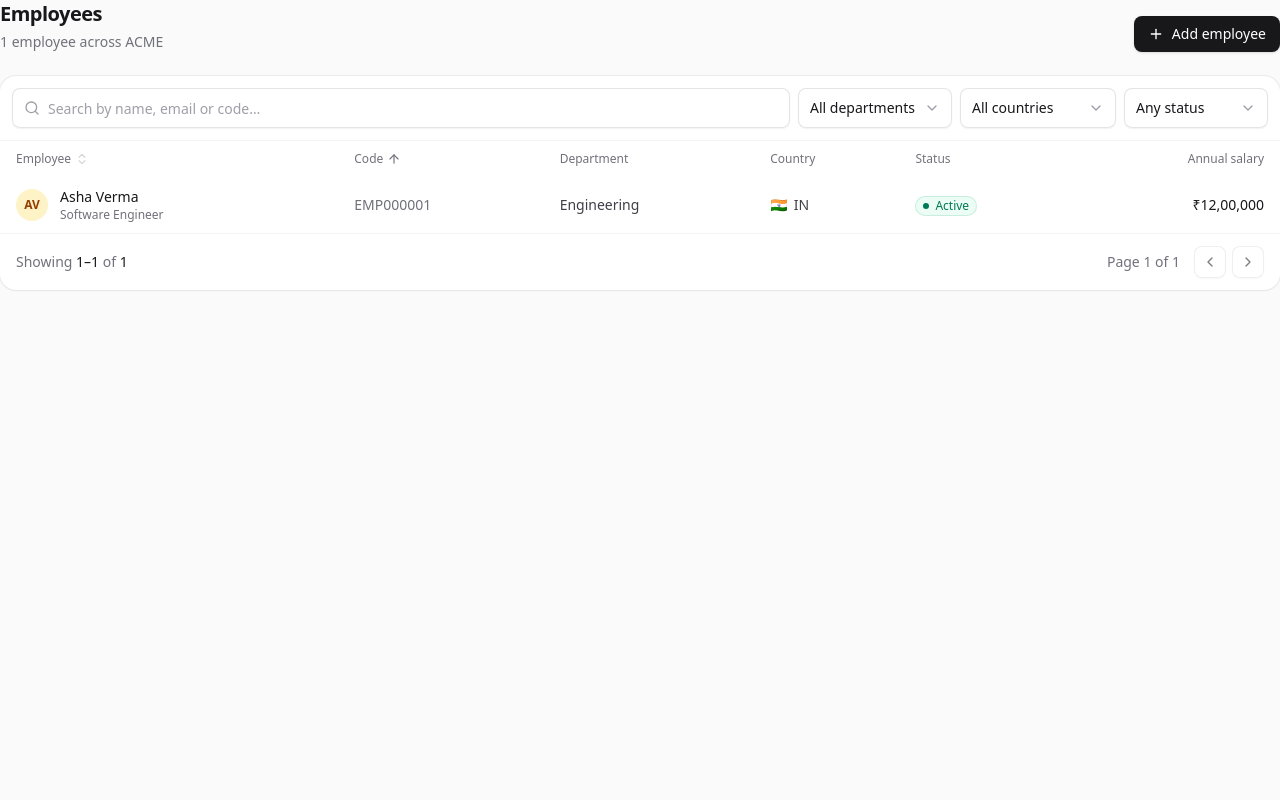
Scenario: EmployeesPage › adds an employee and shows field errors from the API
This screenshot has width=1280, height=800.
Click the button "Add employee" at (1207, 34), box [1134,16,1279,52]
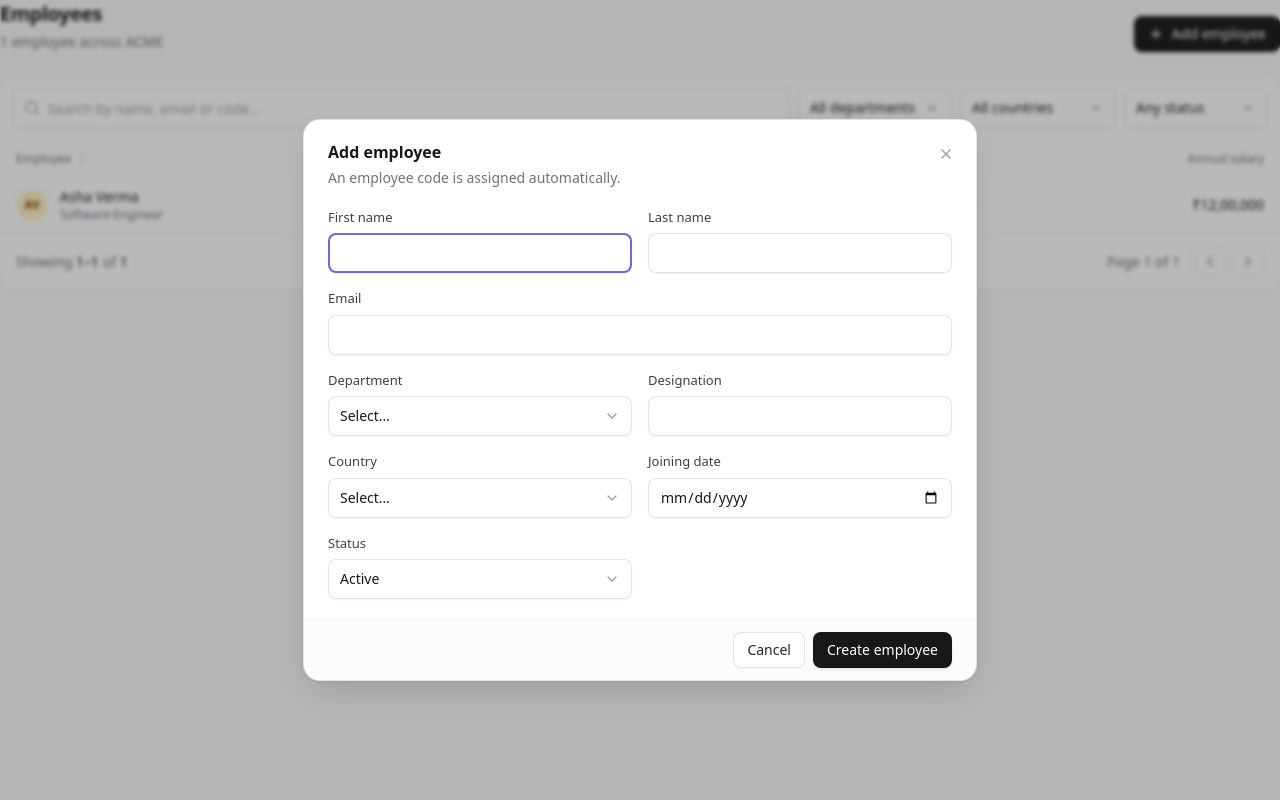
Type "Ravi" into the field labelled "First name" at (480, 253), box [328,233,632,273]
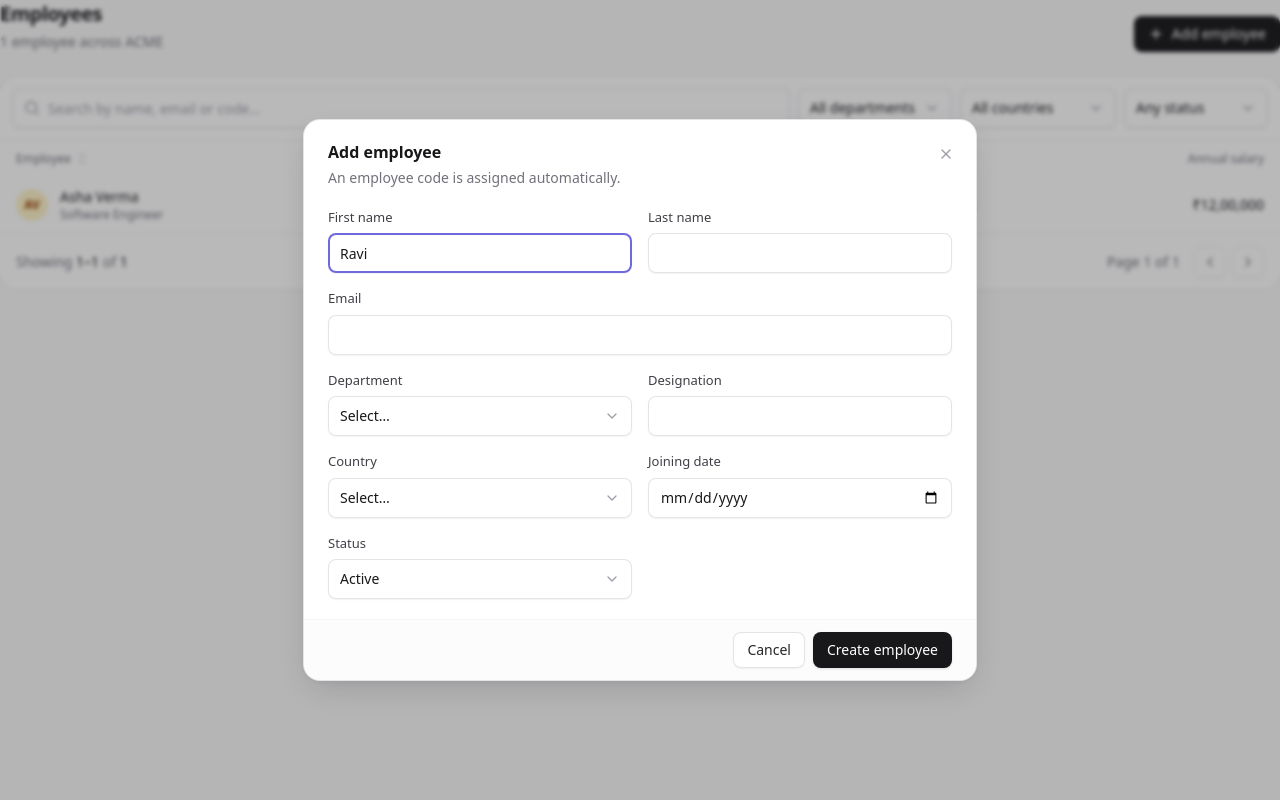
Type "asha@acme.com" into the field labelled "Email" at (640, 335), box [328,315,952,355]
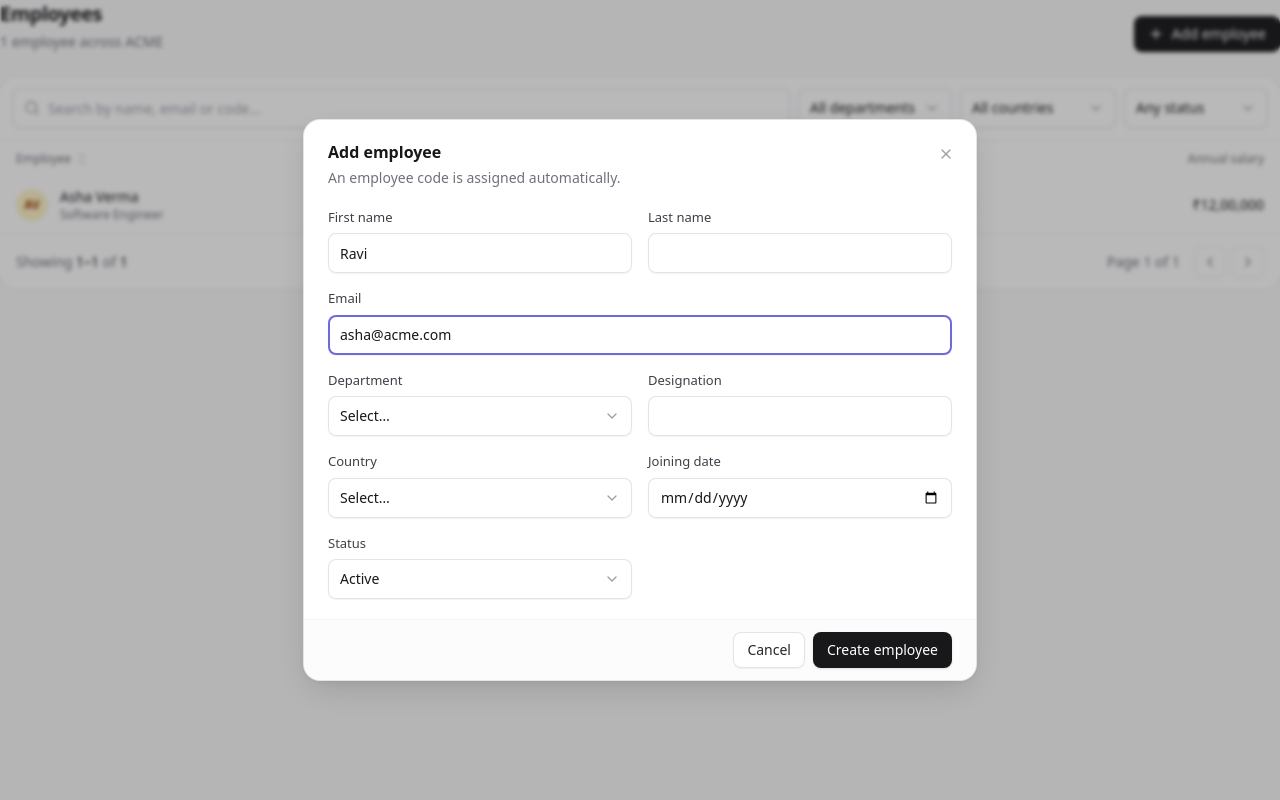
Click the button "Create employee" at (882, 650), box [813,632,952,668]
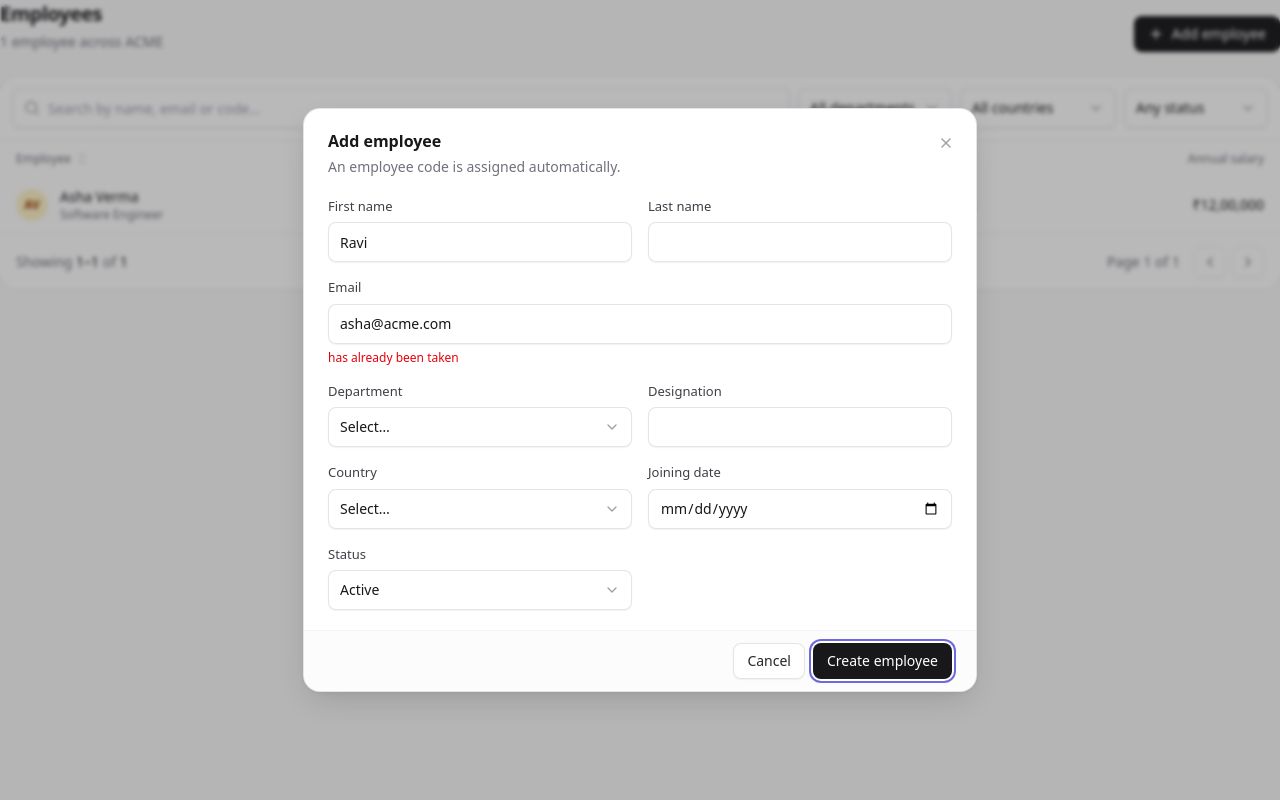
Result: the text "has already been taken" is shown at [328,349,459,366]
